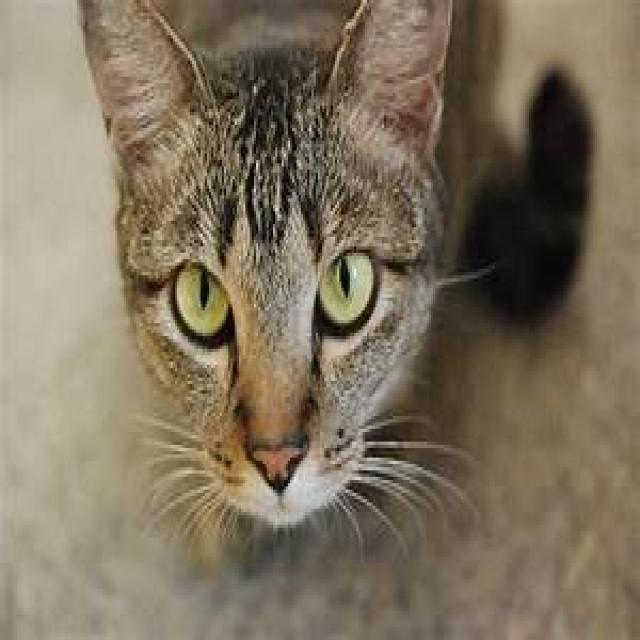animal: (73, 0, 593, 573)
